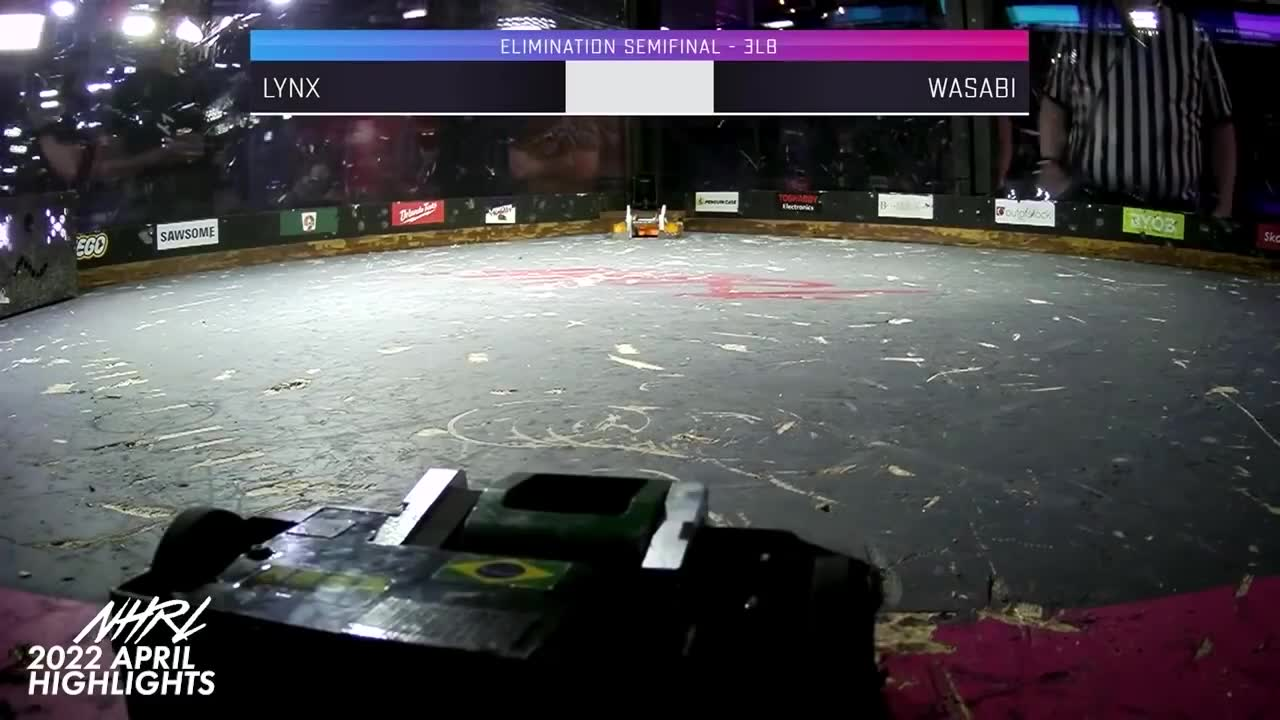combatbot: (111, 463, 880, 720), (611, 206, 688, 239)
housebot: (0, 195, 82, 322)
